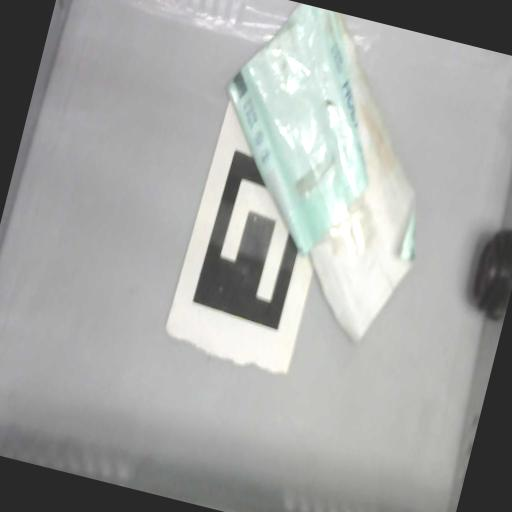QR: (191, 150, 318, 330)
triple_syringe: (227, 2, 417, 351)
